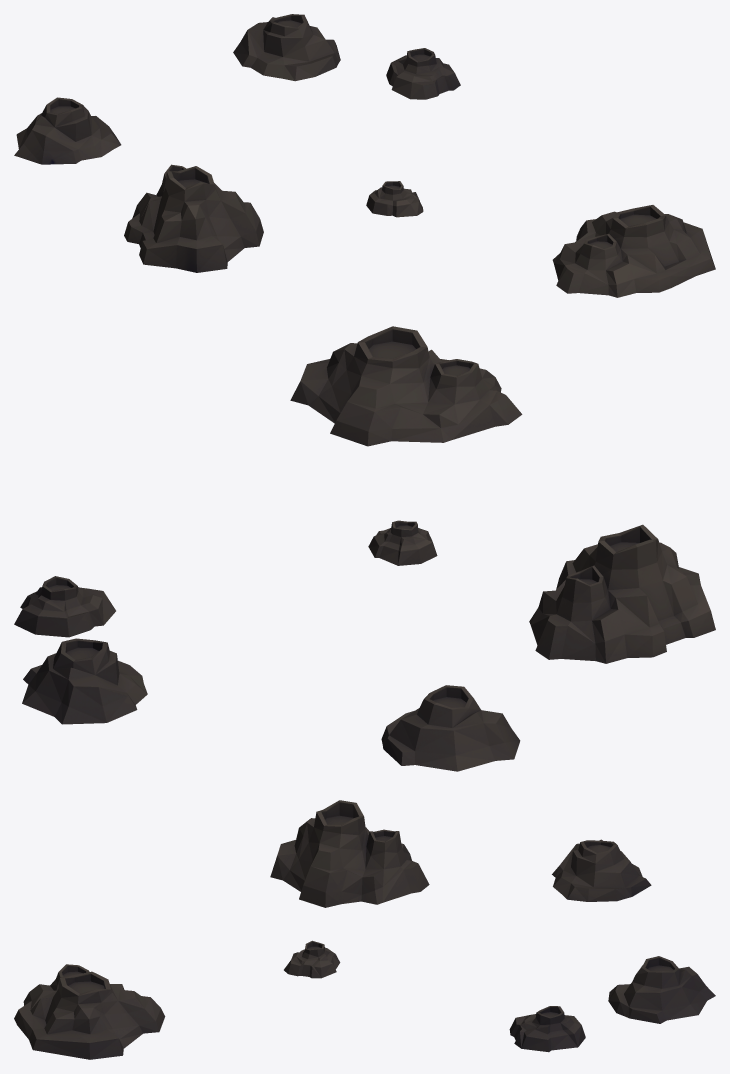
The model's file is Ground_03.FBX.
3 views of the same model, one above another, from view 1: azimuth 30°, elevation 25°; view 2: azimuth 150°, elevation 25°; view 3: azimuth 270°, elevation 25° (orthographic). The views are drawn at different scales.
Parts seen in each view (by area): view 1: Ground_03; view 2: Ground_03; view 3: Ground_03.
Part boxes in pixels (x1,y1,x2,y2): Ground_03: [14, 14, 715, 297]; Ground_03: [14, 326, 715, 771]; Ground_03: [14, 800, 715, 1059].
Bounding box in the file's own units: 14.88 × 2.2 × 20.99.
